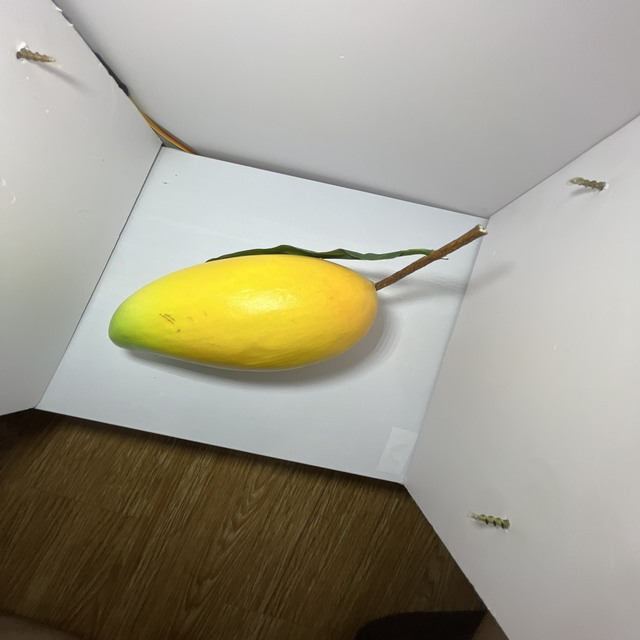Xoai: (101, 249, 382, 375)
